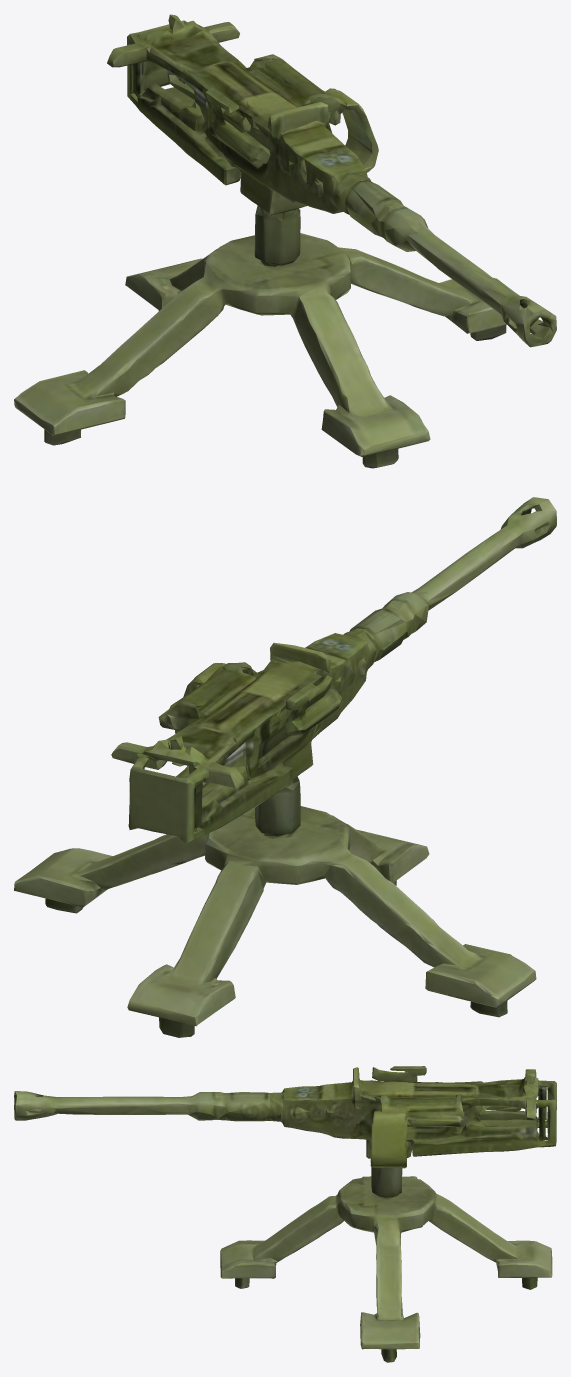
Rendered from tripod_mg.glb.
3 renders of one model, top to bottom at view 1: azimuth 30°, elevation 25°; view 2: azimuth 150°, elevation 25°; view 3: azimuth 270°, elevation 25°, orthographic. The views are drawn at different scales.
Visible parts, largest first — view 1: model; view 2: model; view 3: model.
Boxes of the visible parts, bbox=[...] form: model: bbox=[14, 14, 556, 468]; model: bbox=[14, 497, 556, 1037]; model: bbox=[14, 1066, 556, 1362].
Bounding box in the file's own units: 1.09 × 0.6402 × 1.5.
1 material, 1 textured.
